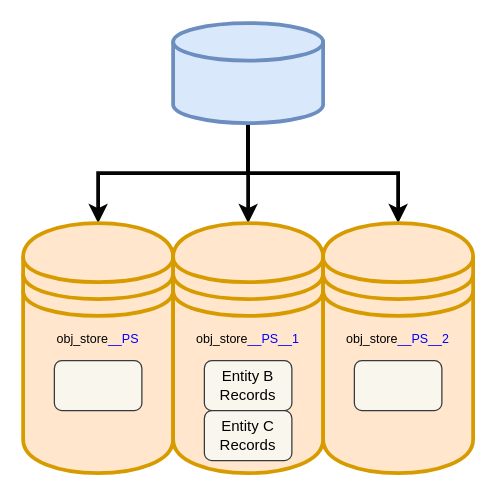
This 496x496 diagram has some shape labels left out. The centre of each missing label's shape, as x and y in pixels:
"Entity A Records" goes at (x=97, y=385).
"Entity D Records" goes at (x=397, y=385).
"partition_storage StorageSpace" goes at (x=247, y=72).
